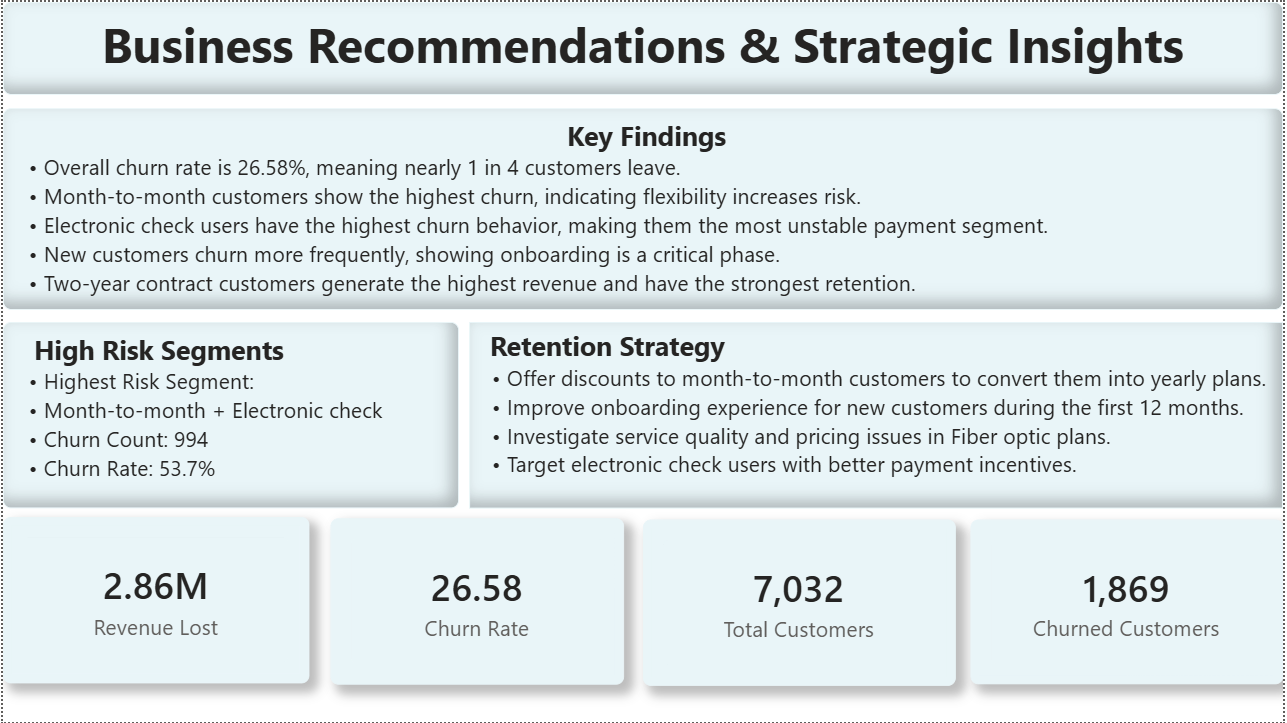

The page's visual inventory and layout, read from the dashboard file:
{"tool":"powerbi","page":{"name":"Business Recommendations & Strategic Insights","canvas":[1280,720],"ordinal":3},"visuals":[{"type":"textbox","box":[10,0,280,280],"z":0},{"type":"textbox","box":[0,0,1280,92.5],"z":1},{"type":"textbox","box":[0,106.2,1280,201.2],"z":3},{"type":"textbox","box":[0,320,456.2,186.2],"z":4},{"type":"textbox","box":[466.2,320,813.8,186.2],"z":5},{"type":"cardVisual","fields":{"Data":["cleaned_telco_churn.revenuelost"]},"box":[0,515,306.2,166.2],"z":6},{"type":"cardVisual","fields":{"Data":["cleaned_telco_churn.churnedrate"]},"box":[327.5,516.2,293.8,166.2],"z":7},{"type":"cardVisual","fields":{"Data":["cleaned_telco_churn.totalcustomers"]},"box":[640,517.5,312.5,166.2],"z":8},{"type":"cardVisual","fields":{"Data":["cleaned_telco_churn.Churned Customers"]},"box":[967.5,517.5,312.5,165],"z":9}]}

Visuals, with their boxes in screenshot pixels (x1, y1, x2, y2), scaled from the page's 1280x720 canvas onto the 1287x723 screenshot:
textbox: rect(10, 0, 292, 281)
textbox: rect(0, 0, 1286, 93)
textbox: rect(0, 107, 1286, 309)
textbox: rect(0, 321, 459, 508)
textbox: rect(469, 321, 1286, 508)
cardVisual - cleaned_telco_churn.revenuelost: rect(0, 517, 308, 684)
cardVisual - cleaned_telco_churn.churnedrate: rect(329, 518, 625, 685)
cardVisual - cleaned_telco_churn.totalcustomers: rect(644, 520, 958, 687)
cardVisual - cleaned_telco_churn.Churned Customers: rect(973, 520, 1286, 685)
